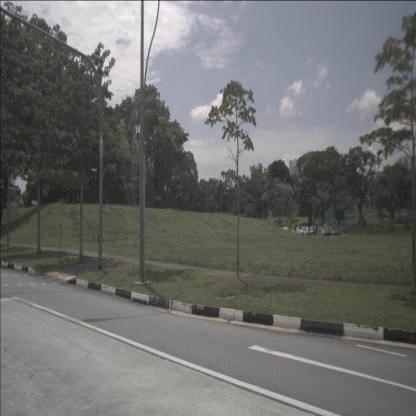human-pedestrian-adult: (294, 225, 297, 235)
vehicle-car: (294, 227, 312, 237), (323, 229, 341, 238)
